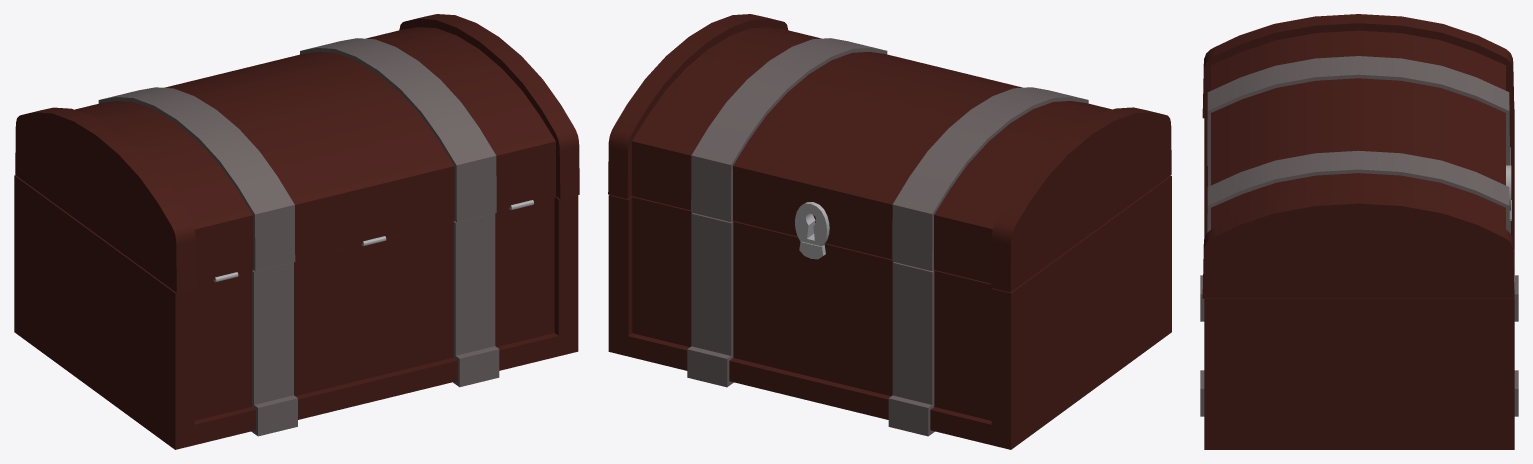
The model's file is F_Chest.fbx.
3 views of the same model, side by side, from view 1: azimuth 30°, elevation 25°; view 2: azimuth 150°, elevation 25°; view 3: azimuth 270°, elevation 25° (orthographic). The views are drawn at different scales.
Visible parts, largest first — view 1: F_ChestTop, F_ChestBottom; view 2: F_ChestTop, F_ChestBottom; view 3: F_ChestTop, F_ChestBottom.
Boxes of the visible parts, x1,y1,x2,y2 form: F_ChestTop: [15, 14, 579, 292]; F_ChestBottom: [14, 175, 578, 449]; F_ChestTop: [608, 14, 1171, 292]; F_ChestBottom: [608, 175, 1171, 449]; F_ChestTop: [1202, 14, 1514, 298]; F_ChestBottom: [1200, 109, 1518, 449].
Bounding box in the file's own units: 56.86 × 35.22 × 40.28.
